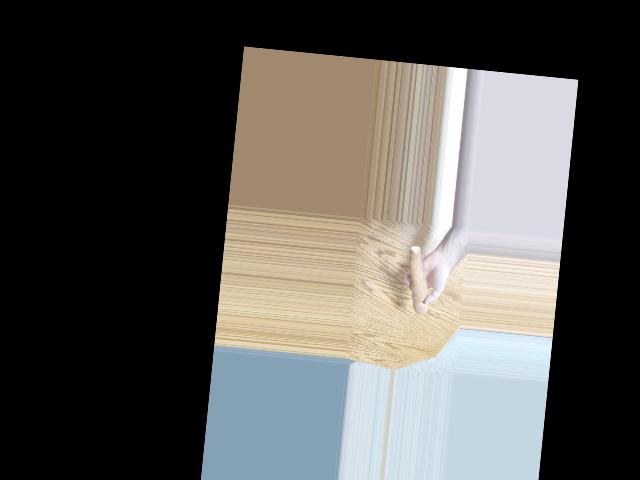sweet_potato: (404, 242, 430, 319)
